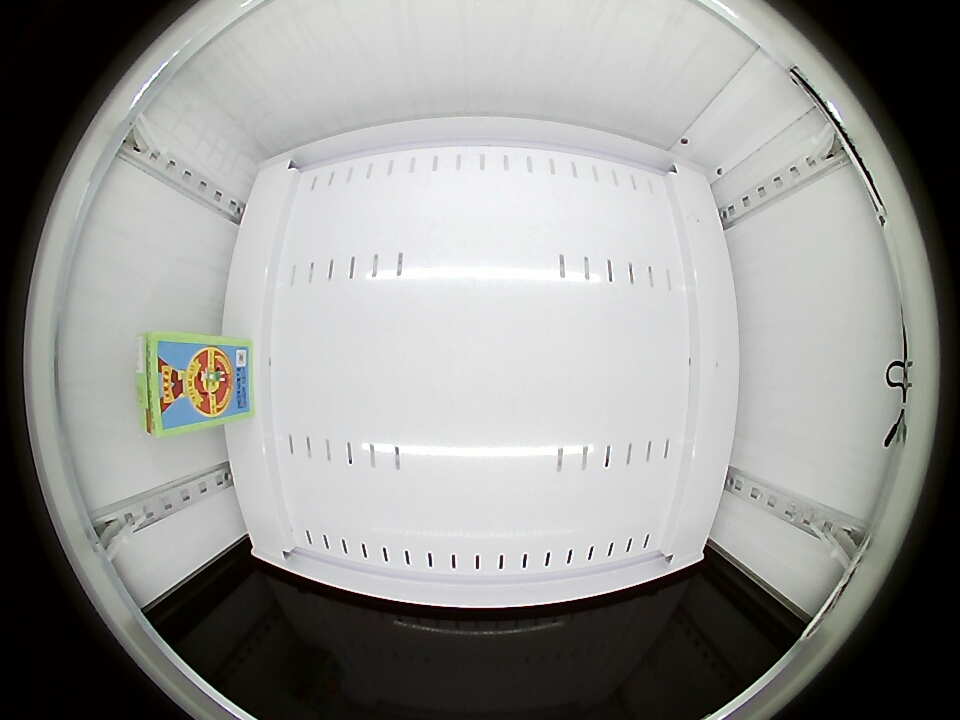wanglaoji: (137, 333, 199, 438)
